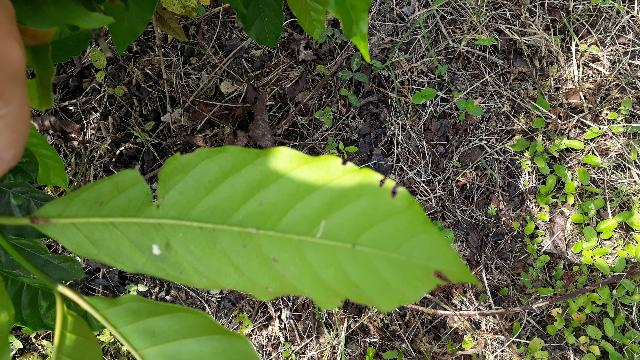rust_level_1: (23, 144, 485, 316)
